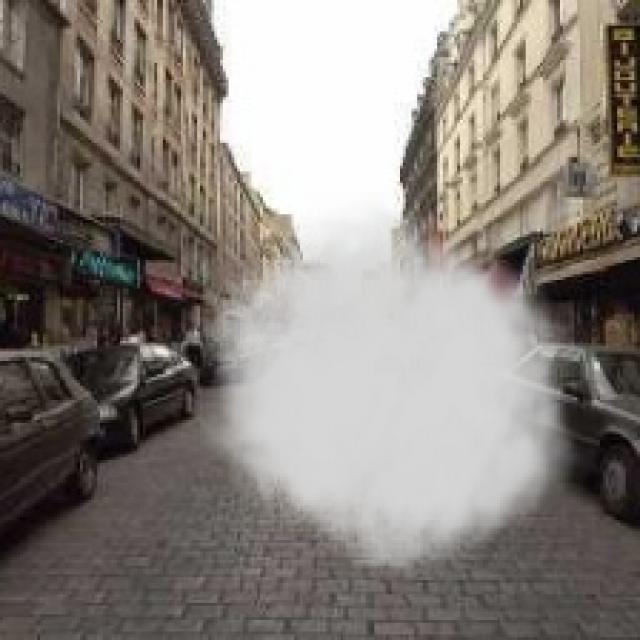smoke: (200, 192, 591, 588)
